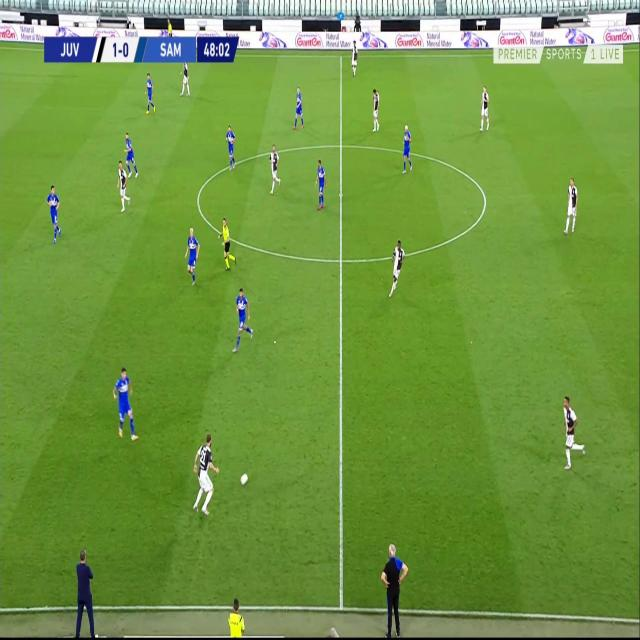ball: (240, 470, 249, 488)
player: (380, 541, 410, 640), (73, 541, 99, 637), (191, 433, 220, 517), (110, 366, 139, 442), (560, 393, 586, 469), (232, 286, 254, 353), (45, 182, 62, 245), (218, 216, 237, 271), (389, 238, 405, 298), (184, 226, 200, 286), (564, 175, 579, 236), (228, 594, 248, 638), (116, 159, 130, 214), (399, 123, 414, 174), (268, 144, 282, 196), (124, 130, 138, 178), (315, 158, 327, 212), (144, 70, 156, 116), (479, 84, 490, 133), (226, 124, 237, 172), (370, 86, 381, 133), (293, 85, 304, 130), (179, 61, 191, 97), (351, 41, 359, 77)
